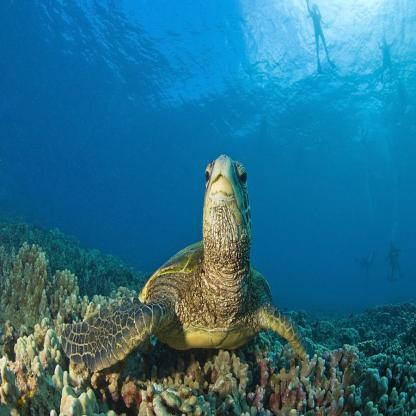turtle: (198, 150, 255, 268)
